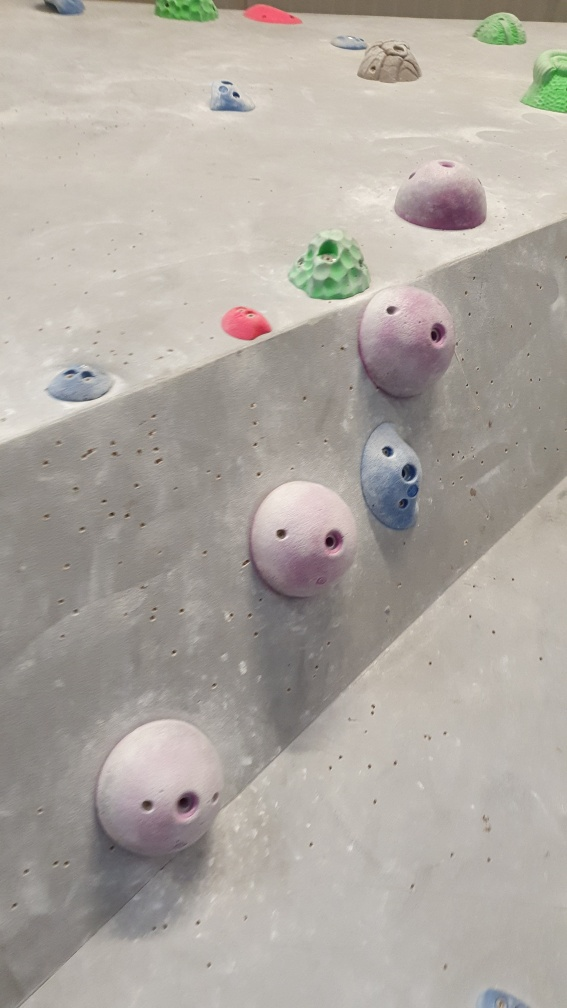Jug: (360, 418, 425, 532), (291, 225, 371, 301), (522, 47, 567, 117)
Pinch: (220, 307, 276, 343)
Sloper: (97, 720, 227, 861), (248, 477, 360, 601), (357, 282, 459, 403), (394, 153, 493, 229)
